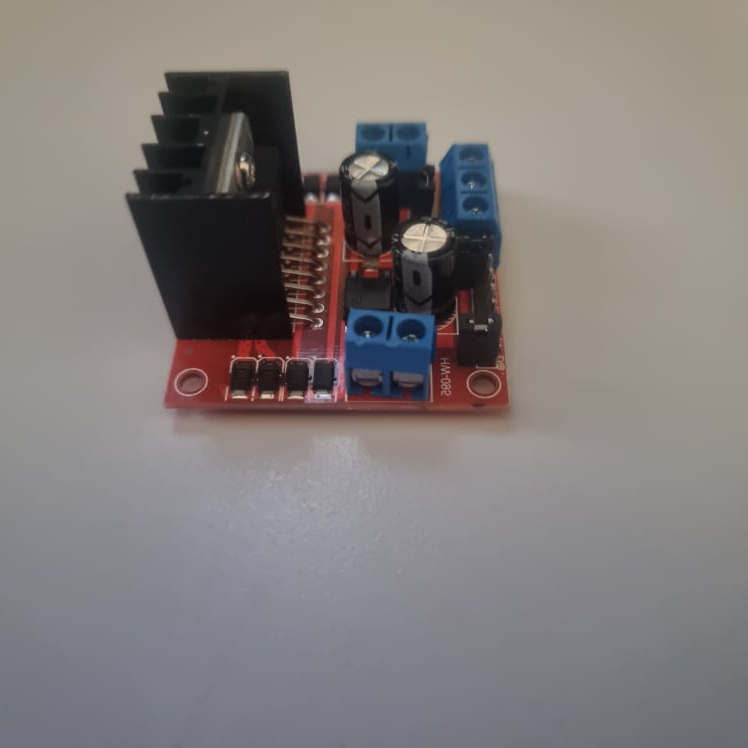MOTOR: (125, 69, 507, 410)
